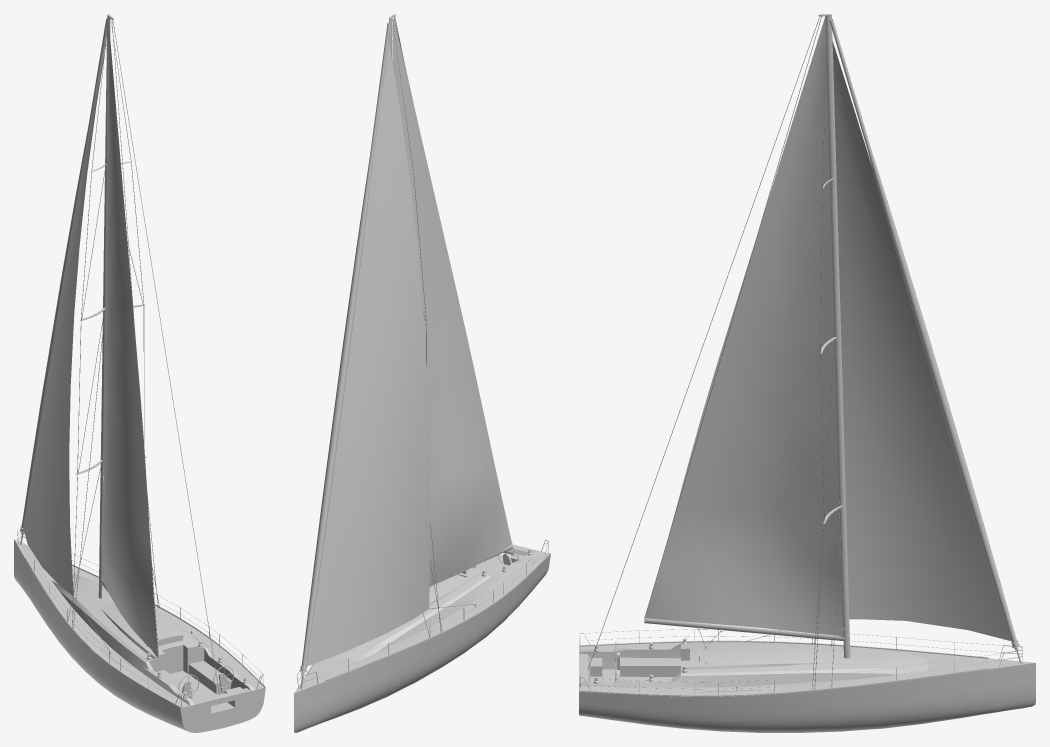
The model's file is SAILING+YACHT+A05.fbx.
The picture shows the model from 3 angles, left to right: view 1: azimuth 30°, elevation 25°; view 2: azimuth 150°, elevation 25°; view 3: azimuth 270°, elevation 25°; orthographic projection. The views are drawn at different scales.
Visible parts, largest first — view 1: SAILING+YACHT+A05.002, SAILING+YACHT+A05, SAILING+YACHT+A05.001, SAILING+YACHT+A05.006, SAILING+YACHT+A05.005; view 2: SAILING+YACHT+A05.002, SAILING+YACHT+A05, SAILING+YACHT+A05.001, SAILING+YACHT+A05.006, SAILING+YACHT+A05.005; view 3: SAILING+YACHT+A05.002, SAILING+YACHT+A05, SAILING+YACHT+A05.001, SAILING+YACHT+A05.006, SAILING+YACHT+A05.005.
Boxes of the visible parts, bbox=[...] form: SAILING+YACHT+A05.002: bbox=[23, 18, 157, 654]; SAILING+YACHT+A05: bbox=[14, 14, 265, 732]; SAILING+YACHT+A05.001: bbox=[68, 17, 219, 692]; SAILING+YACHT+A05.006: bbox=[25, 557, 265, 707]; SAILING+YACHT+A05.005: bbox=[17, 530, 263, 707]; SAILING+YACHT+A05.002: bbox=[306, 19, 512, 666]; SAILING+YACHT+A05: bbox=[294, 14, 550, 732]; SAILING+YACHT+A05.001: bbox=[392, 16, 474, 635]; SAILING+YACHT+A05.006: bbox=[305, 543, 550, 680]; SAILING+YACHT+A05.005: bbox=[297, 540, 548, 689]; SAILING+YACHT+A05.002: bbox=[645, 16, 1011, 641]; SAILING+YACHT+A05: bbox=[579, 14, 1035, 732]; SAILING+YACHT+A05.001: bbox=[589, 16, 841, 687]; SAILING+YACHT+A05.006: bbox=[579, 616, 988, 696]; SAILING+YACHT+A05.005: bbox=[579, 629, 1022, 694].
Bounding box in the file's own units: 4.9 × 29.38 × 17.15.
